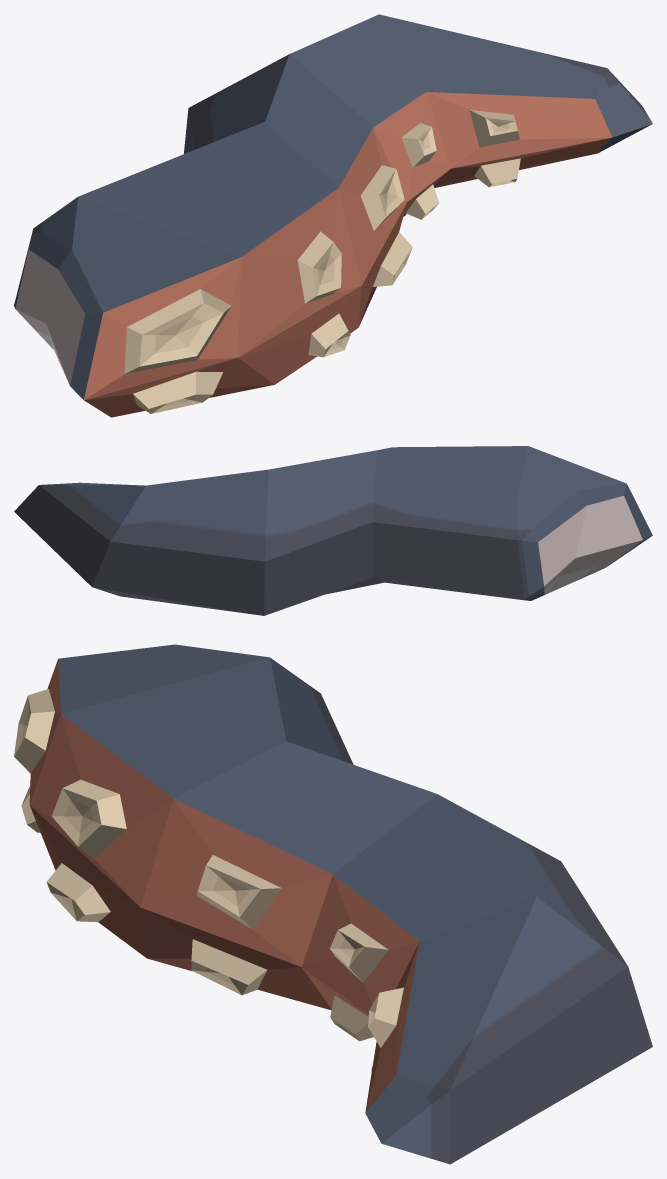
The model's file is SM_Prop_Food_Tentacle_01.fbx.
3 renders of one model, top to bottom at view 1: azimuth 30°, elevation 25°; view 2: azimuth 150°, elevation 25°; view 3: azimuth 270°, elevation 25°, orthographic. The views are drawn at different scales.
Visible parts, largest first — view 1: SM_Prop_Food_Tentacle_01; view 2: SM_Prop_Food_Tentacle_01; view 3: SM_Prop_Food_Tentacle_01.
Part boxes in pixels (x1,y1,x2,y2): SM_Prop_Food_Tentacle_01: (14, 14, 652, 417); SM_Prop_Food_Tentacle_01: (14, 446, 652, 615); SM_Prop_Food_Tentacle_01: (14, 644, 652, 1164).
Bounding box in the file's own units: 32.58 × 7.62 × 21.06.
